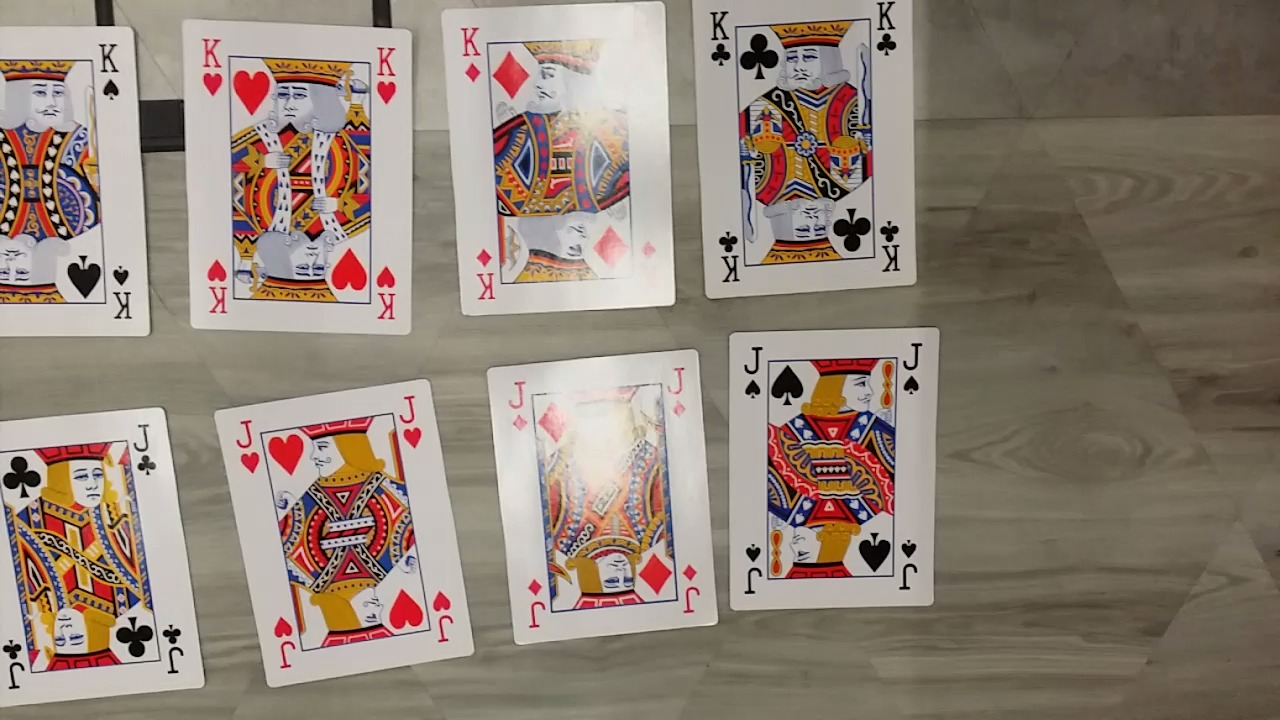10_diamond: (485, 346, 721, 649)
jack_club: (0, 402, 205, 713)
jack_heart: (212, 374, 480, 689)
jack_spade: (726, 325, 951, 611)
king_club: (687, 0, 918, 300)
king_diamond: (440, 0, 679, 318)
king_heart: (183, 19, 418, 333)
king_spade: (0, 22, 151, 338)
